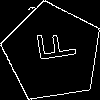F: (27, 27, 77, 65)
